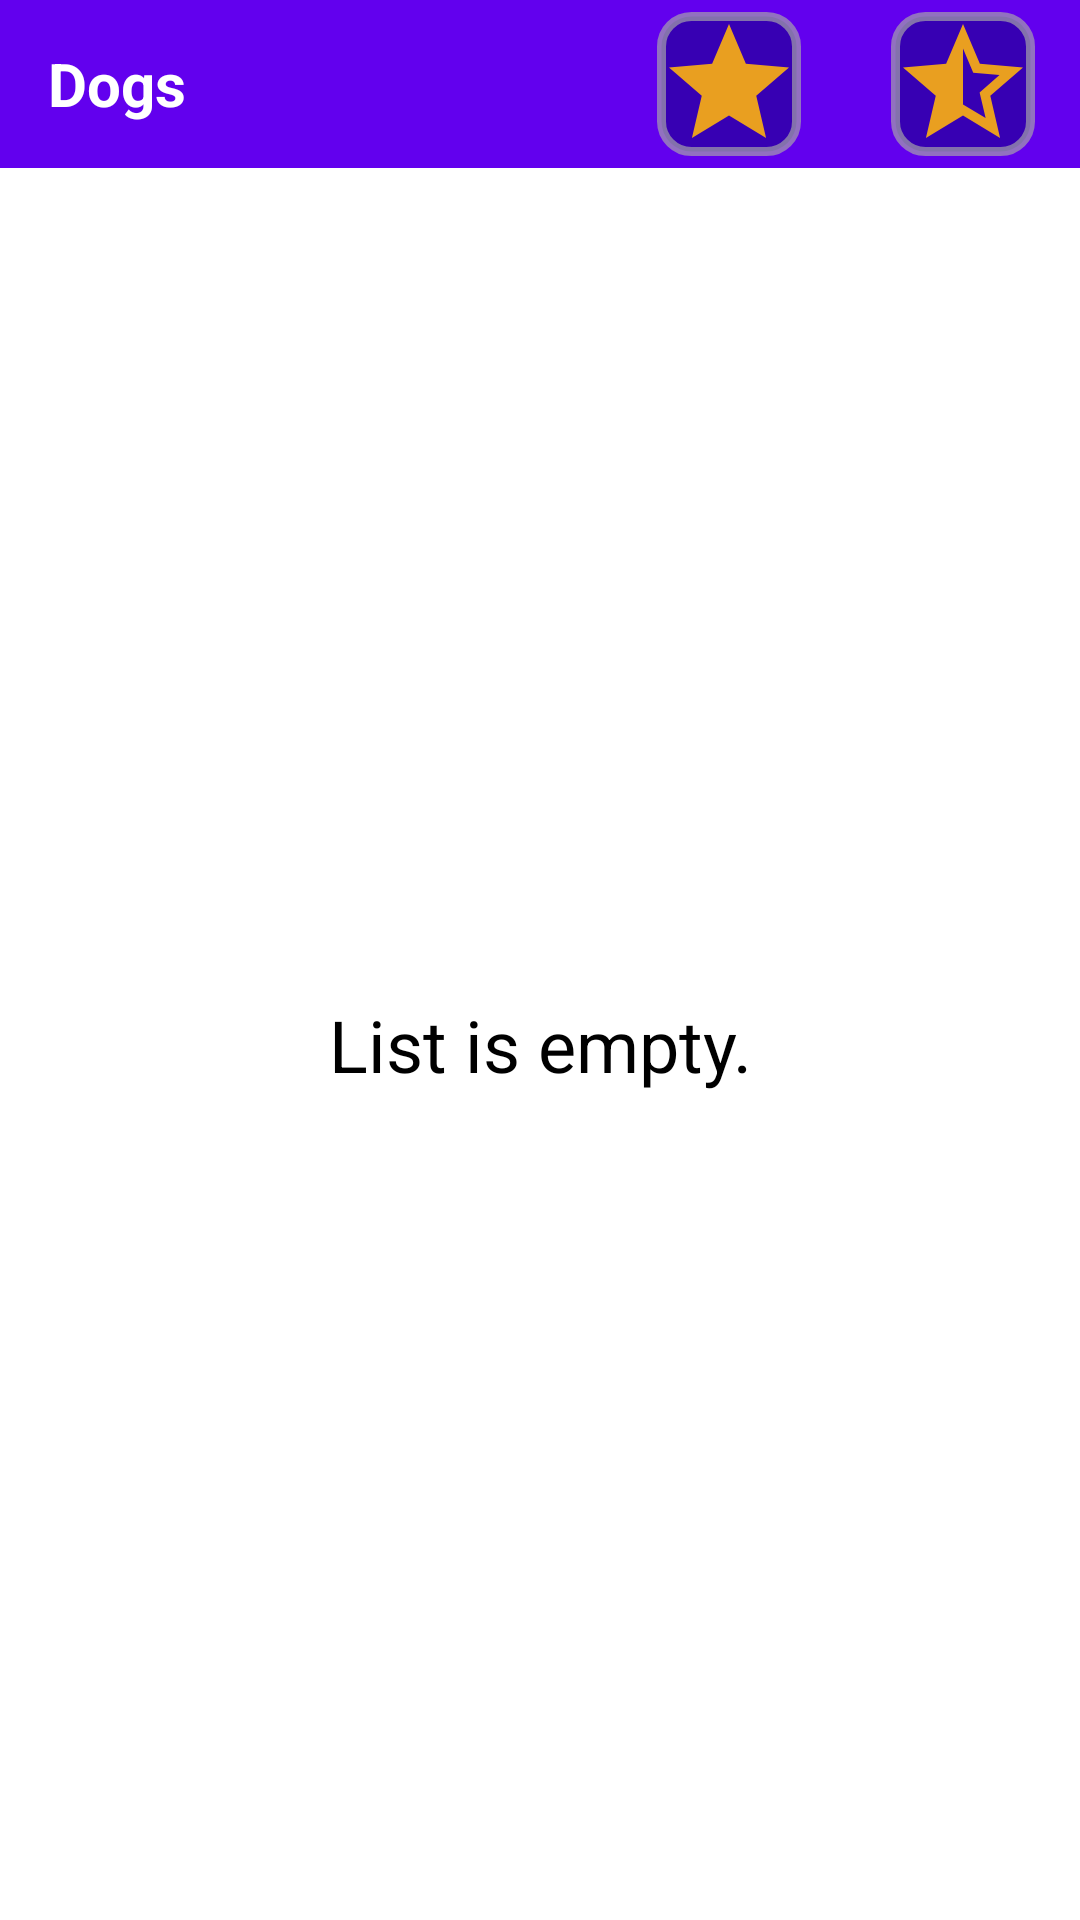

Locate icon controls on the screen. Image size 1080px x 1920px, boxes as (x1, y1, x2, y2).
star: (657, 12, 801, 156)
star half: (891, 12, 1035, 156)
